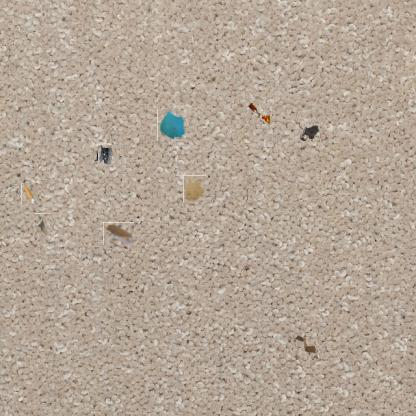dirty: (157, 110, 187, 141), (105, 220, 132, 247), (291, 333, 318, 359), (247, 101, 271, 125), (20, 184, 40, 203), (34, 213, 50, 236), (96, 146, 114, 166)
liquid: (183, 175, 206, 202), (300, 124, 320, 142)
